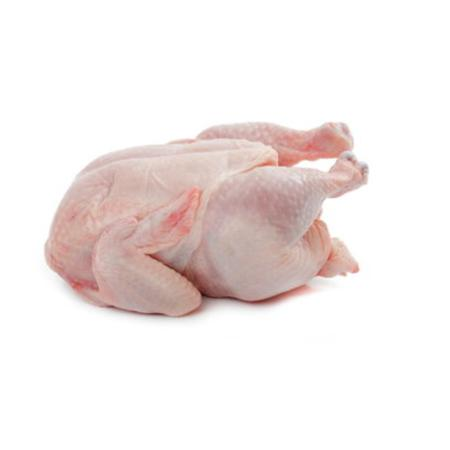chicken: (31, 84, 263, 224)
